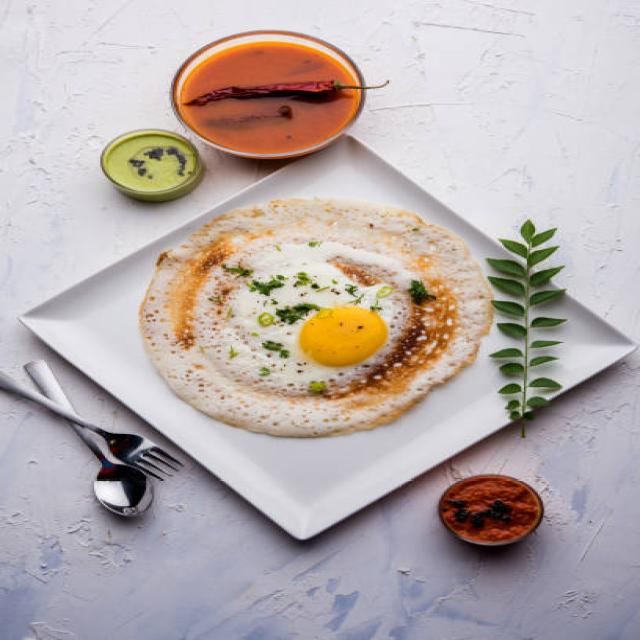DOSA: (135, 203, 491, 443)
GREEN CHUTNEY: (104, 130, 202, 192)
SAMBAR: (179, 29, 364, 155)
